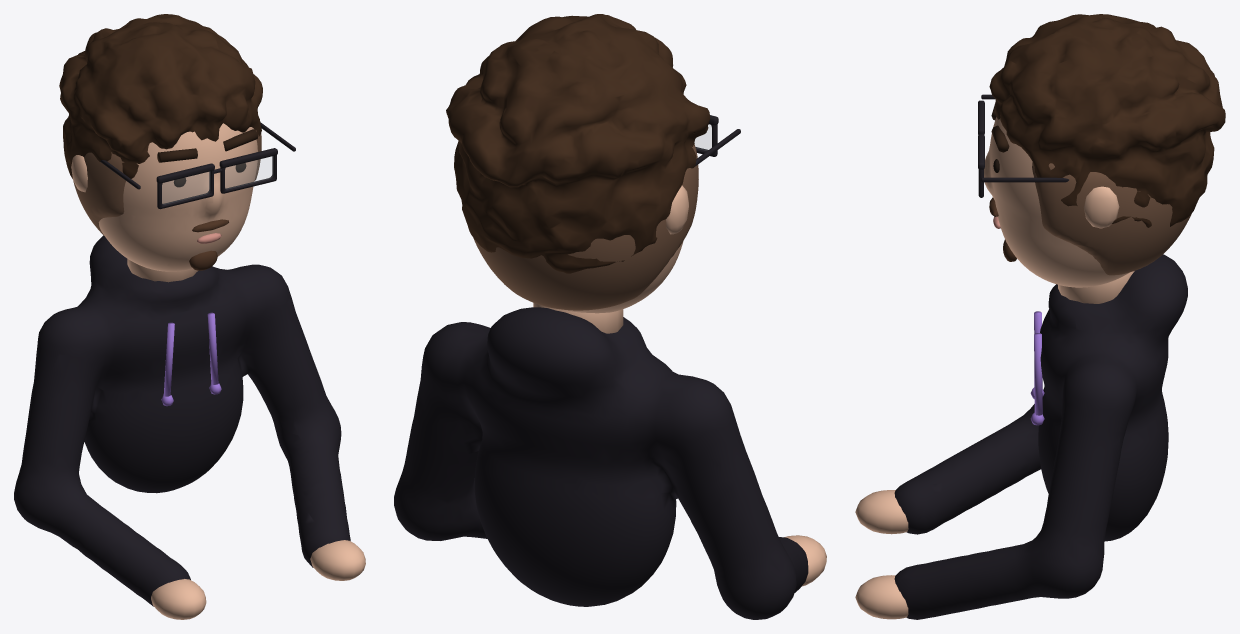
File: avatar.glb
The picture shows the model from 3 angles, left to right: view 1: azimuth 30°, elevation 25°; view 2: azimuth 150°, elevation 25°; view 3: azimuth 270°, elevation 25°; orthographic projection. The views are drawn at different scales.
Visible parts, largest first — view 1: Hoodie, Hair, Skull, Fade, Hand-1, Hand1, Lens-1, Lens1, Neck, BeardMeta.001, Cord1, Cord-1 (+5 smaller); view 2: Hoodie, Hair, Fade, Hand-1, Neck, Skull, Ear-1; view 3: Hoodie, Hair, Fade, Skull, Hand1, Hand-1, Ear1, Neck, Cord1, Temple1.
Boxes of the visible parts, x1,y1,x2,y2 form: Hoodie: (14,235,350,606); Hair: (59,14,262,178); Skull: (98,123,257,271); Fade: (73,129,261,235); Hand-1: (151,579,206,619); Hand1: (310,540,365,580); Lens-1: (162,172,210,204); Lens1: (225,156,273,188); Neck: (127,259,198,282); BeardMeta.001: (189,219,228,270); Cord1: (207,312,218,384); Cord-1: (163,322,174,396); Hoodie: (394,307,808,619); Hair: (446,14,710,273); Fade: (473,144,698,310); Hand-1: (784,535,826,586); Neck: (533,303,623,333); Skull: (559,241,683,313); Ear-1: (666,185,688,234); Hoodie: (894,254,1187,619); Hair: (989,14,1225,227); Fade: (1032,162,1191,275); Skull: (984,117,1129,287); Hand1: (855,575,908,619); Hand-1: (855,490,908,534); Ear1: (1084,186,1119,228); Neck: (1058,271,1134,303); Cord1: (1034,333,1042,415); Temple1: (981,177,1068,182).
Bounding box in the file's own units: 1.6 × 2.41 × 1.47.
